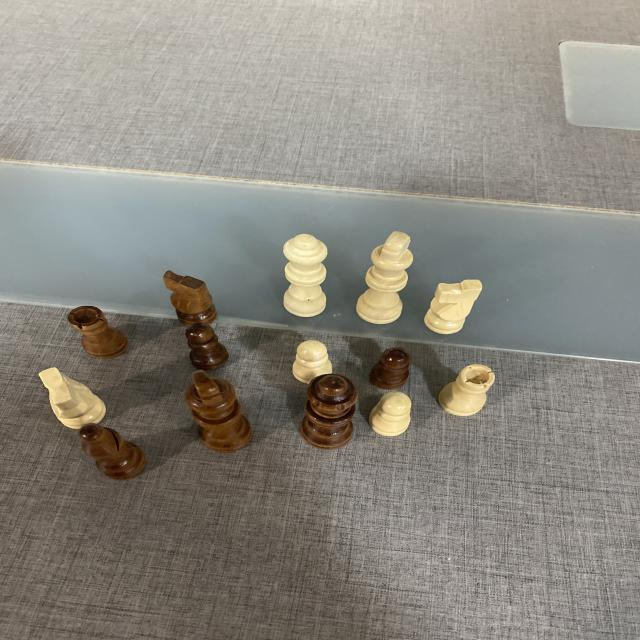Black-Bishop: (77, 423, 147, 481)
Black-King: (184, 370, 252, 454)
Black-Knight: (164, 270, 220, 326)
Black-Pawn: (184, 321, 232, 371), (370, 347, 412, 389)
Black-Queen: (301, 374, 359, 451)
Black-Rook: (66, 306, 132, 360)
White-King: (356, 230, 414, 324)
White-Knight: (38, 366, 108, 429), (423, 279, 482, 334)
White-Pawn: (368, 391, 413, 438), (292, 339, 333, 385)
White-Queen: (282, 232, 330, 318)
White-Rook: (438, 364, 496, 417)
